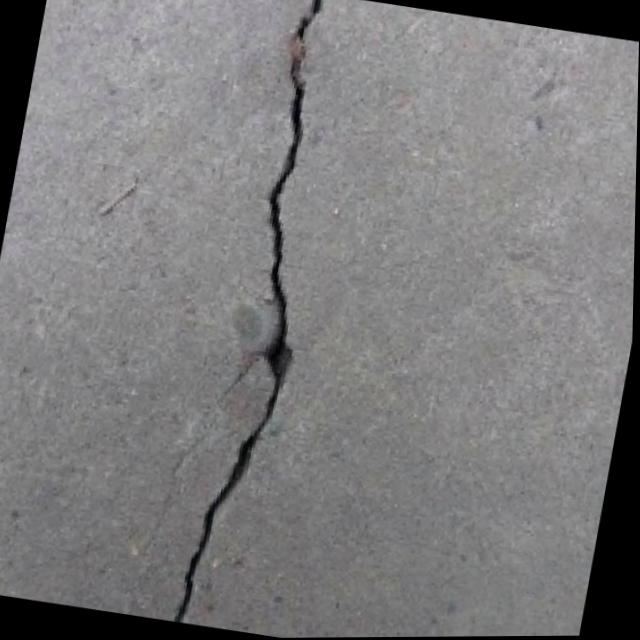Crack: (128, 0, 381, 637)
